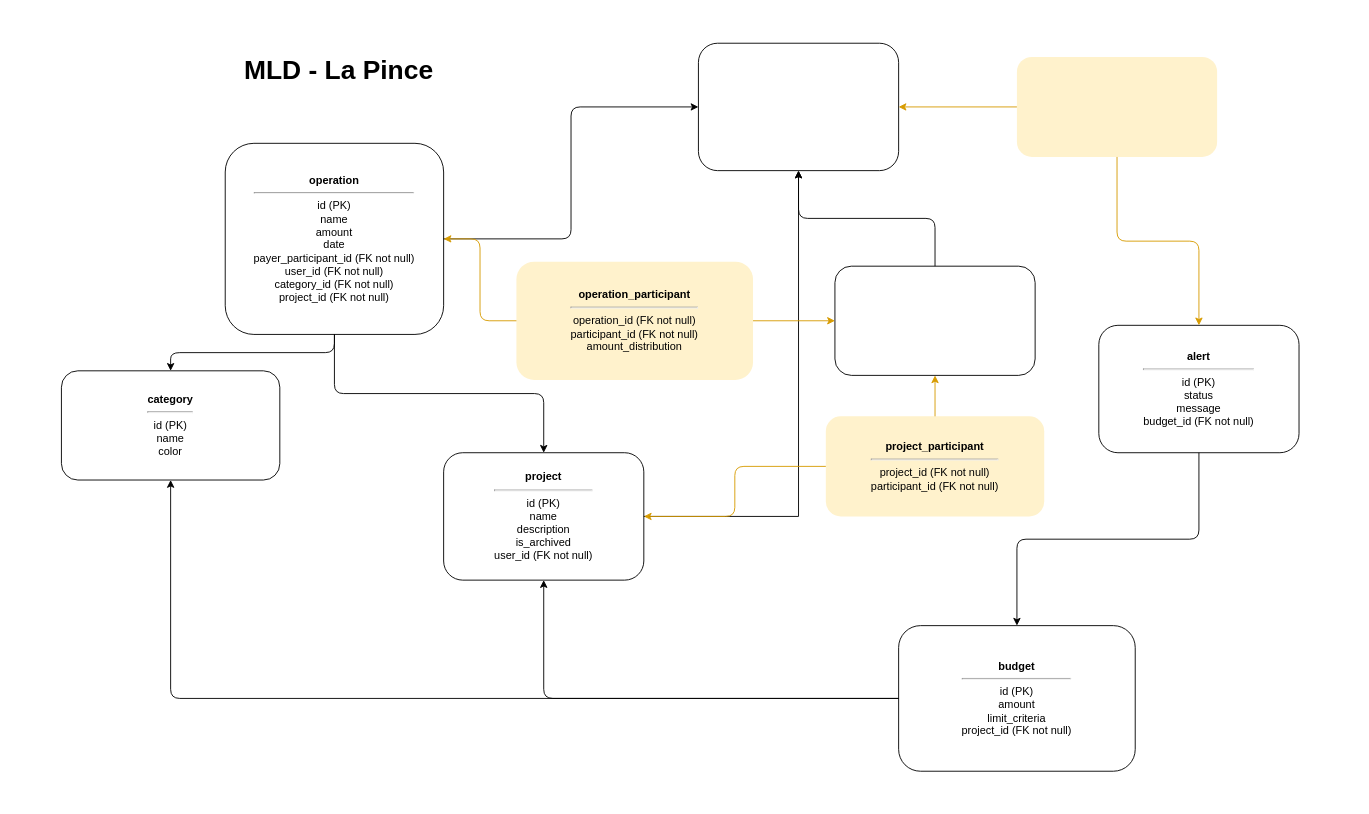
This 1369x814 diagram has some shape labels left out. The shapes that lost their labels are listed below. From the top down, each one's centre as x and y in pixels, then its label:
At point 798,106: "user id (PK) name email password".
At point 1116,106: "user_alert user_id (FK not null) alert_id (FK not null)".
At point 934,320: "participant id (PK) name user_id (FK)".
